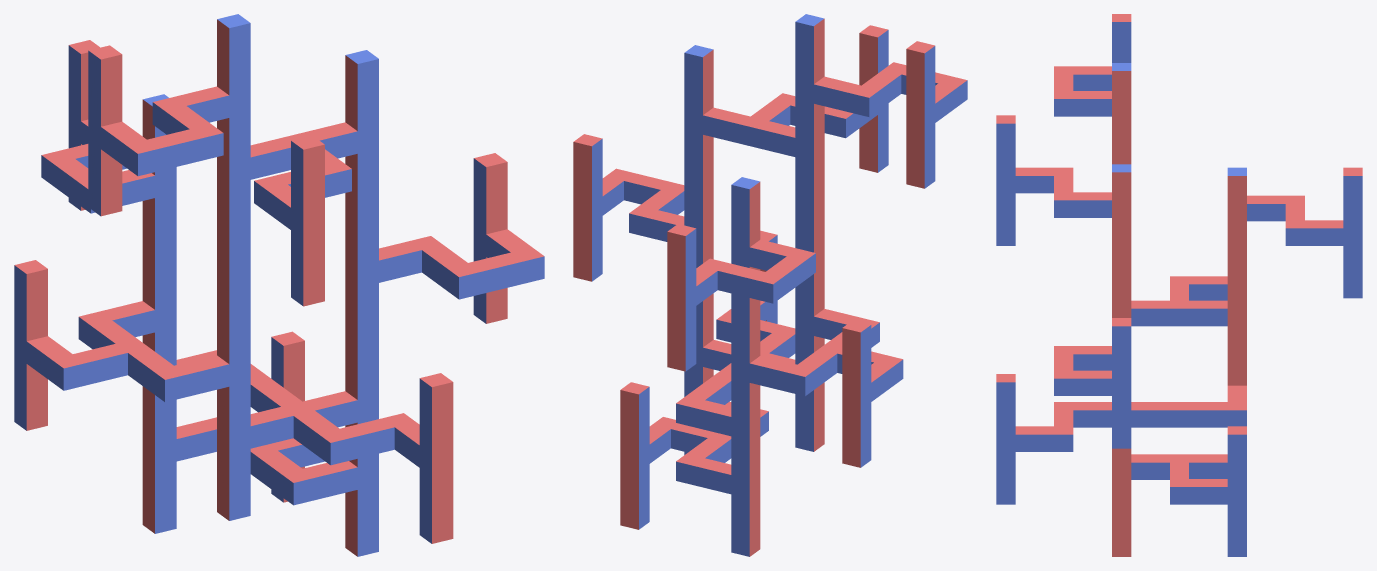
The model's file is toffoli_n3_blockgraph.dae.
3 renders of one model, left to right at view 1: azimuth 30°, elevation 25°; view 2: azimuth 150°, elevation 25°; view 3: azimuth 270°, elevation 25°, orthographic. The views are drawn at different scales.
Visible parts, largest first — view 1: XZO (×18), OZX (×15), ZXO (×10); view 2: XZO (×15), ZXO (×12), OZX (×12); view 3: ZOX (×18), ZXO (×11), XZO (×11).
Part boxes in pixels (<box>): XZO (×18): <box>155,45,378,534</box>; OZX (×15): <box>85,95,523,499</box>; ZXO (×10): <box>26,77,507,521</box>; XZO (×15): <box>684,41,813,537</box>; ZXO (×12): <box>573,52,924,510</box>; OZX (×12): <box>624,84,850,494</box>; ZOX (×18): <box>1015,74,1343,504</box>; ZXO (×11): <box>996,39,1362,539</box>; XZO (×11): <box>1112,88,1246,539</box>.
Size of the model in its own units: 19 by 19 by 25.
